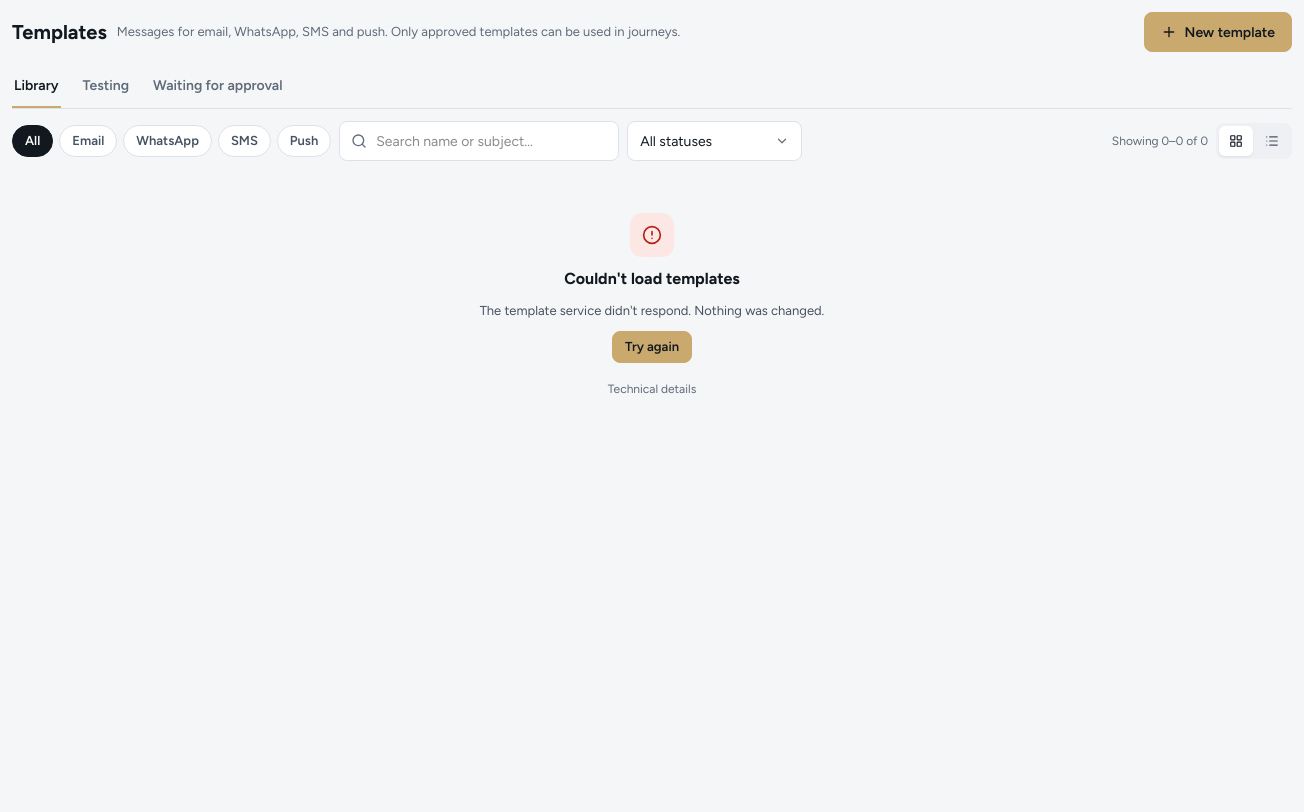
Test case: Templates page — library › shows an error state on getTemplates failure and retries
Expected: the heading "Couldn't load templates" is shown, [564,267,740,291]
Click the button "Try again": (652, 346) [612,330,692,362]
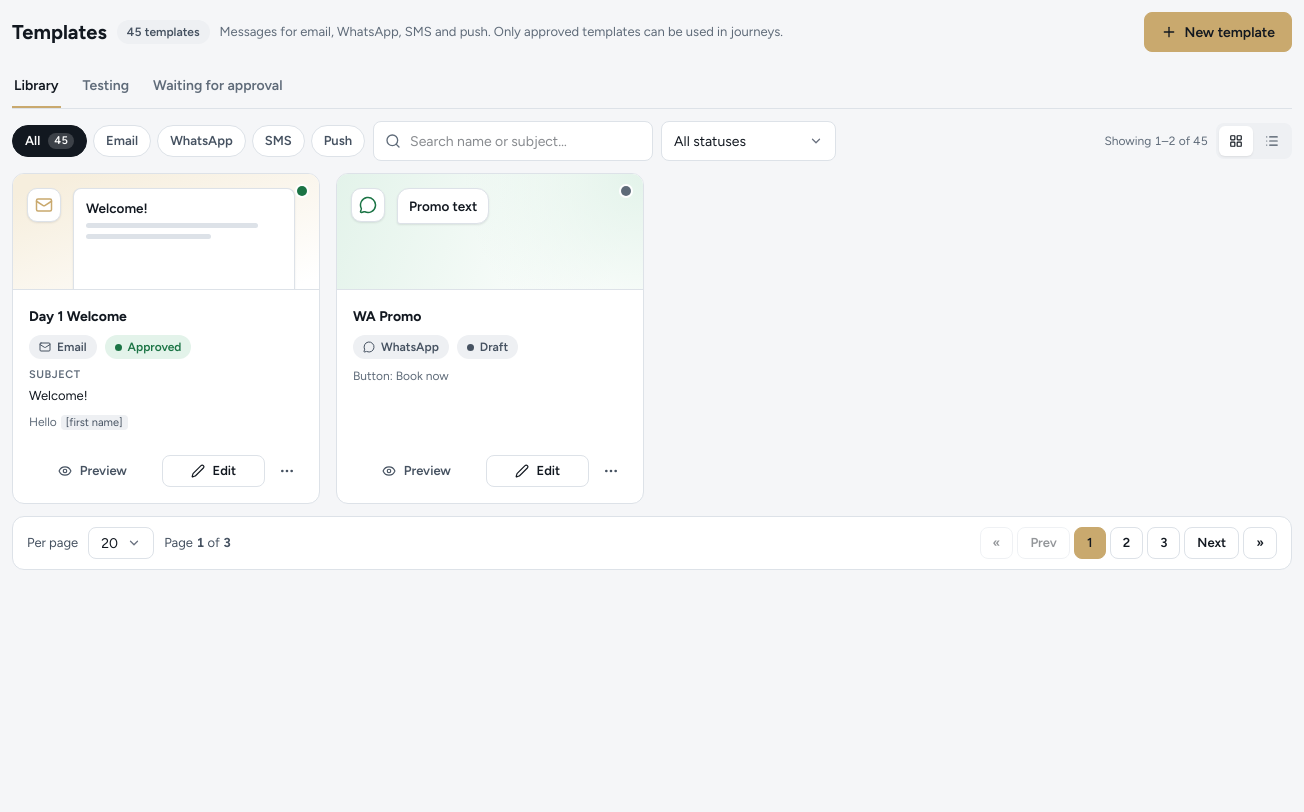
Expected: the heading "Day 1 Welcome" is shown, [29,308,127,325]
Expected: the heading "Couldn't load templates" is gone
